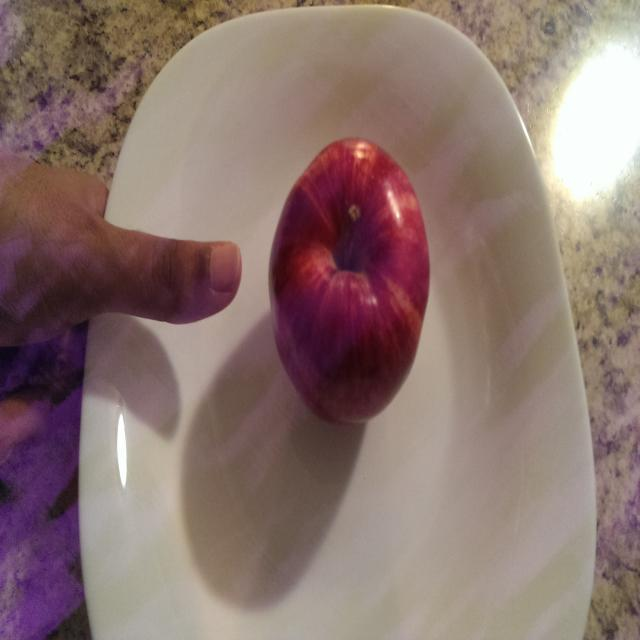Apple: (262, 125, 434, 429)
Finger: (137, 222, 248, 330)
